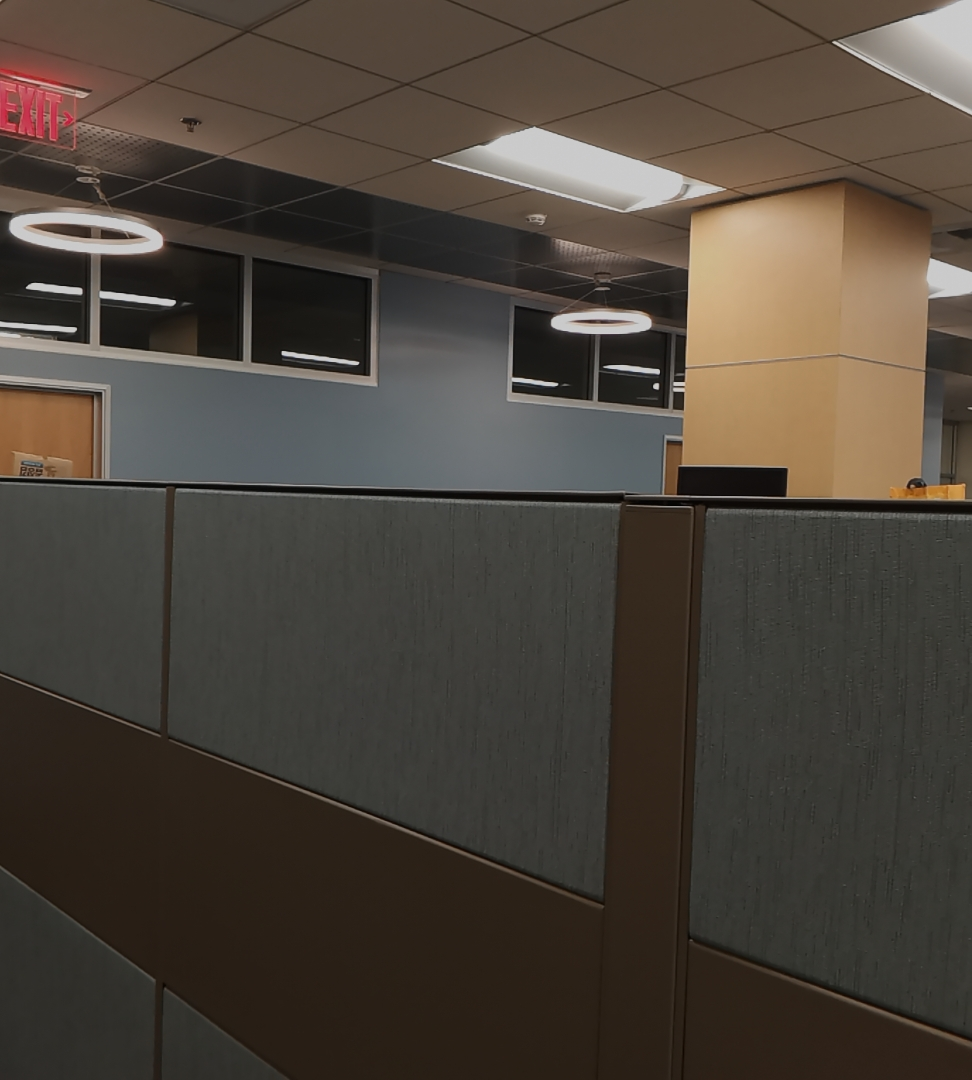emergency_exit: (1, 69, 91, 152)
